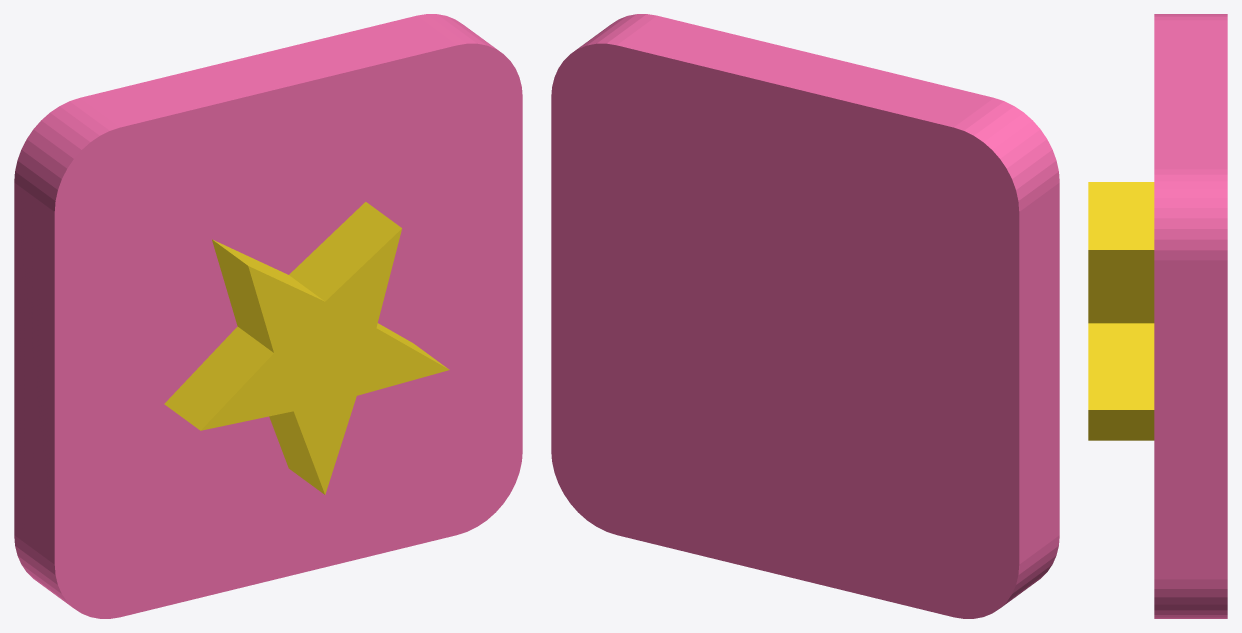
File: TheStudio-icon-3d.glb
3 renders of one model, left to right at view 1: azimuth 30°, elevation 25°; view 2: azimuth 150°, elevation 25°; view 3: azimuth 270°, elevation 25°, orthographic. The views are drawn at different scales.
Visible parts, largest first — view 1: BasePlaque, StarEmblem; view 2: BasePlaque; view 3: BasePlaque, StarEmblem.
Boxes of the visible parts, left/top/right/bottom form: BasePlaque: left=14, top=14, right=522, bottom=618; StarEmblem: left=164, top=202, right=449, bottom=494; BasePlaque: left=551, top=14, right=1059, bottom=618; BasePlaque: left=1154, top=14, right=1227, bottom=618; StarEmblem: left=1088, top=182, right=1154, bottom=440.
Size of the model in its own units: 2 by 2 by 0.57.
